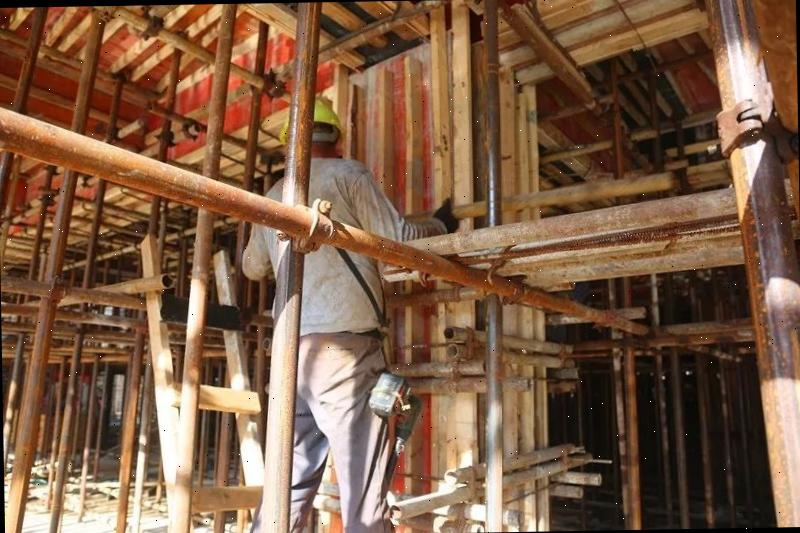helmet: (277, 99, 343, 142)
no_wear: (256, 157, 386, 331)
